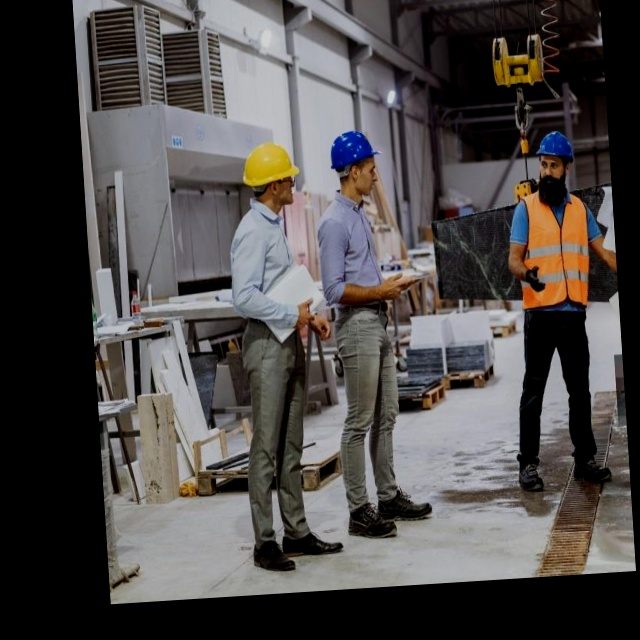Con_Casco: (242, 140, 304, 210), (326, 129, 385, 200), (536, 130, 577, 202)
Con_Chaleco: (517, 187, 594, 316)
Sin_Chaleco: (228, 210, 303, 328), (315, 201, 390, 313)
